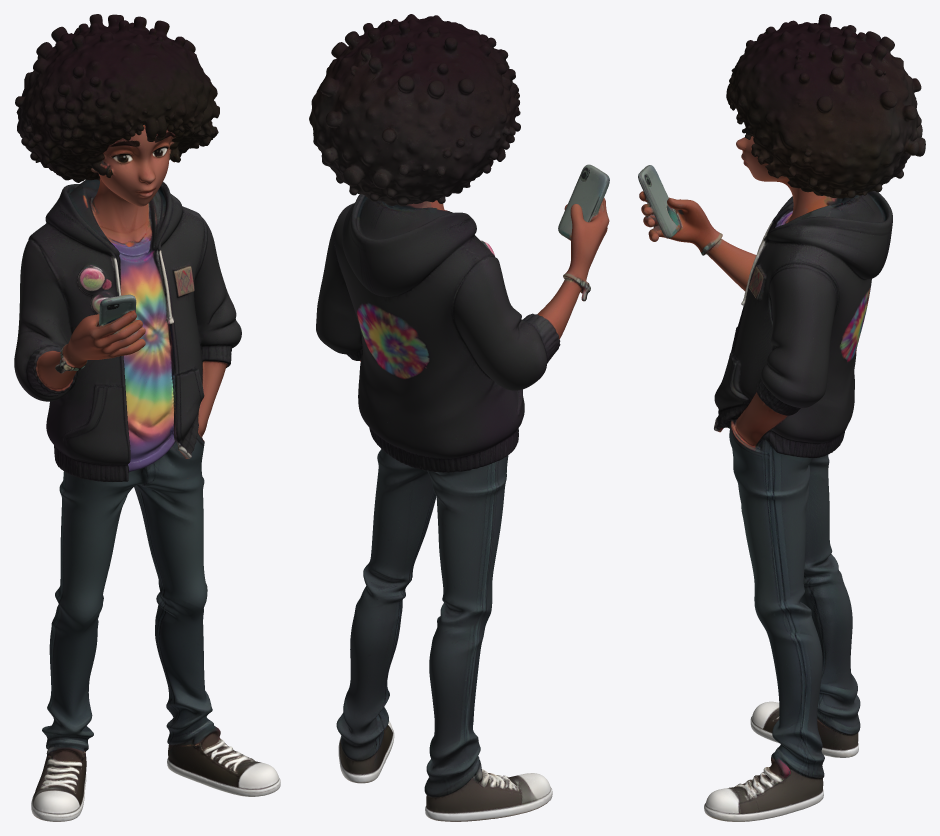
File: Lautaro_Meshy.glb
3 renders of one model, left to right at view 1: azimuth 30°, elevation 25°; view 2: azimuth 150°, elevation 25°; view 3: azimuth 270°, elevation 25°, orthographic. The views are drawn at different scales.
Parts seen in each view (by area): view 1: Mesh_0; view 2: Mesh_0; view 3: Mesh_0.
Boxes of the visible parts, <box> form: Mesh_0: <box>14,14,280,821</box>; Mesh_0: <box>309,14,609,821</box>; Mesh_0: <box>638,14,925,821</box>.
Size of the model in its own units: 0.5331 by 1.7 by 0.596.
Materials: 1 (1 with a texture image).
